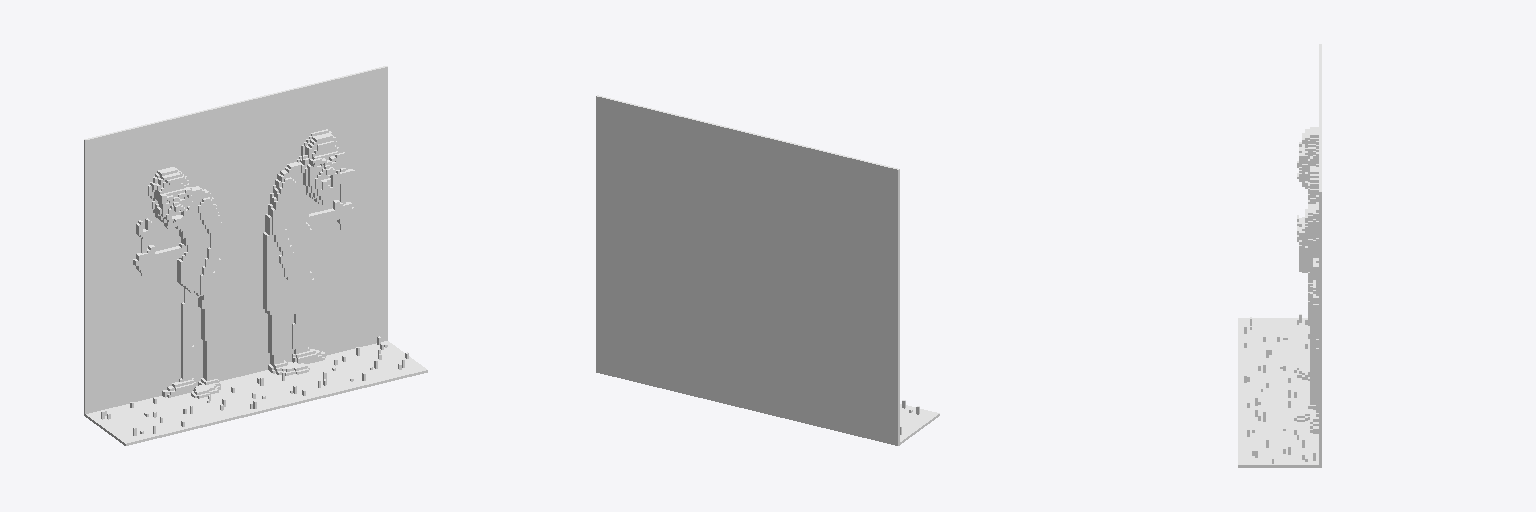
File: menu.obj
3 renders of one model, left to right at view 1: azimuth 30°, elevation 25°; view 2: azimuth 150°, elevation 25°; view 3: azimuth 270°, elevation 25°, orthographic.
Parts seen in each view (by area): view 1: object 1; view 2: object 1; view 3: object 1.
Part boxes in pixels (x1,y1,x2,y2): object 1: (84,66,427,445); object 1: (596,95,939,445); object 1: (1238,44,1321,467).
Bounding box in the file's own units: 12.6 × 11 × 3.